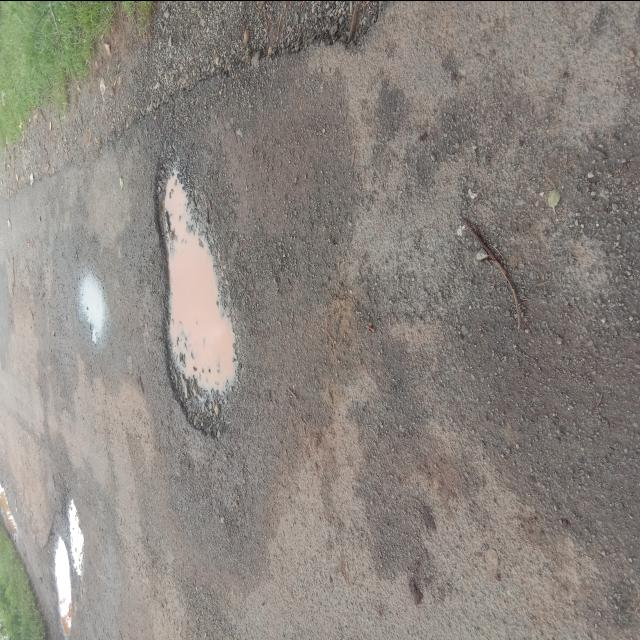potholes: (151, 132, 243, 448), (50, 528, 78, 640), (64, 492, 92, 584), (76, 268, 105, 356), (2, 478, 22, 554)
